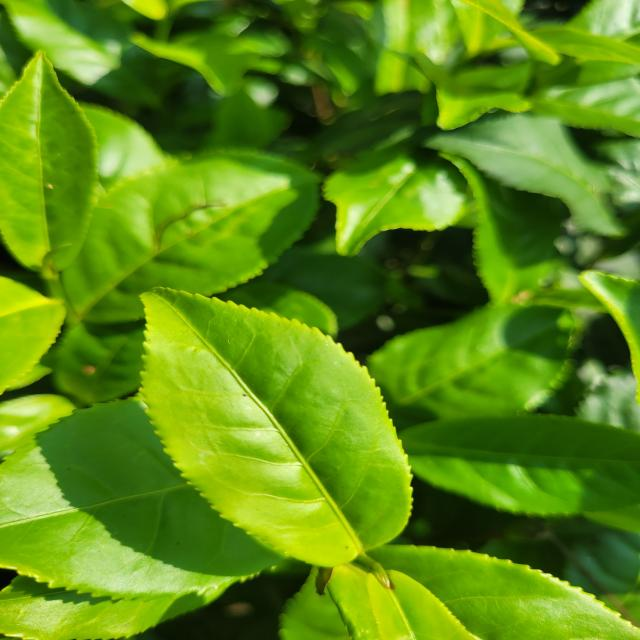Catagory A(1-2 days): (127, 281, 417, 572)
